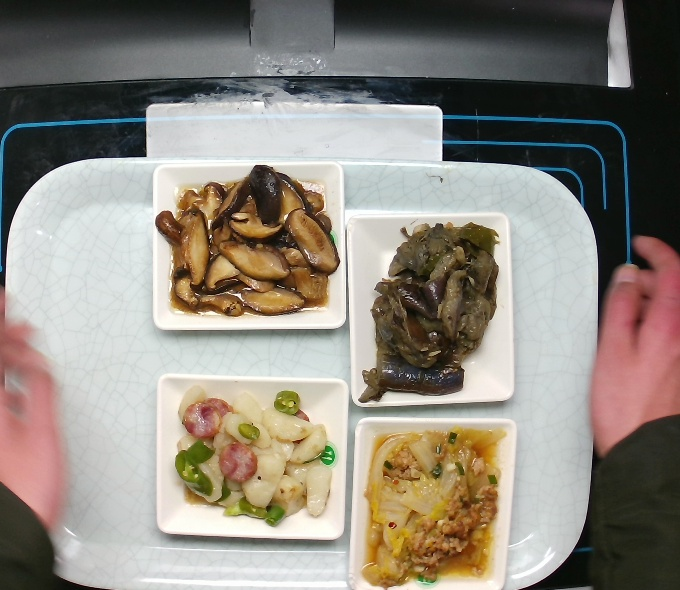wcq-MaTiGuo: (172, 383, 335, 533)
wcq-MoGu: (152, 163, 343, 326)
wcq-QieZi: (353, 223, 505, 412)
wcq-RouMoBaiCai: (350, 429, 503, 585)
